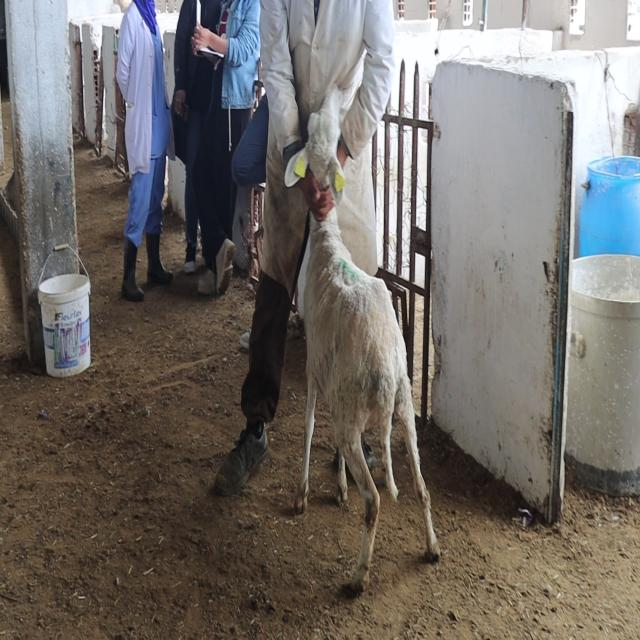Score_1: (284, 84, 440, 592)
